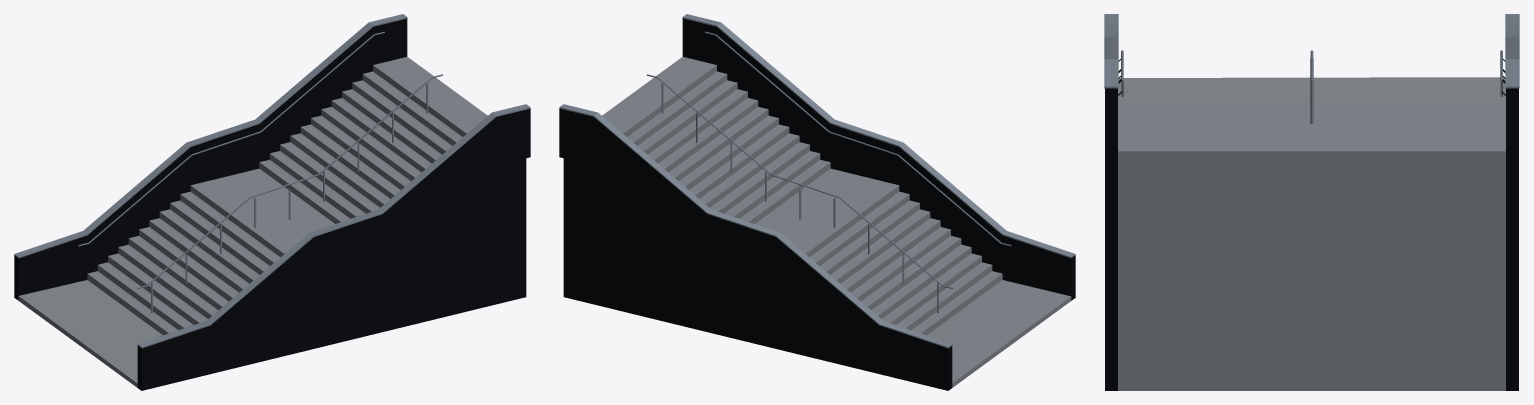
The model's file is tt_struct_stair_w.glb.
3 views of the same model, side by side, from view 1: azimuth 30°, elevation 25°; view 2: azimuth 150°, elevation 25°; view 3: azimuth 270°, elevation 25° (orthographic). The views are drawn at different scales.
Visible parts, largest first — view 1: Cheek_Walls, Stair_Body, Cheek_Caps, Handrail, Centre_Rail_Posts; view 2: Cheek_Walls, Stair_Body, Cheek_Caps, Handrail, Centre_Rail_Posts; view 3: Stair_Body, Cheek_Walls, Cheek_Caps, Handrail.
Part boxes in pixels (x1,y1,x2,y2): Cheek_Walls: (14,18,530,390); Stair_Body: (18,56,487,387); Cheek_Caps: (14,14,530,348); Handrail: (78,31,443,288); Centre_Rail_Posts: (151,83,428,313); Cheek_Walls: (559,18,1075,390); Stair_Body: (602,56,1071,387); Cheek_Caps: (559,14,1075,348); Handrail: (646,31,1011,288); Centre_Rail_Posts: (661,83,938,313); Stair_Body: (1118,77,1505,390); Cheek_Walls: (1105,88,1518,390); Cheek_Caps: (1104,14,1519,88); Handrail: (1121,50,1502,96).
Size of what is drawn, in the model's own units: 11.3 by 5.25 by 6.42.
Materials: 6 (5 with a texture image).
